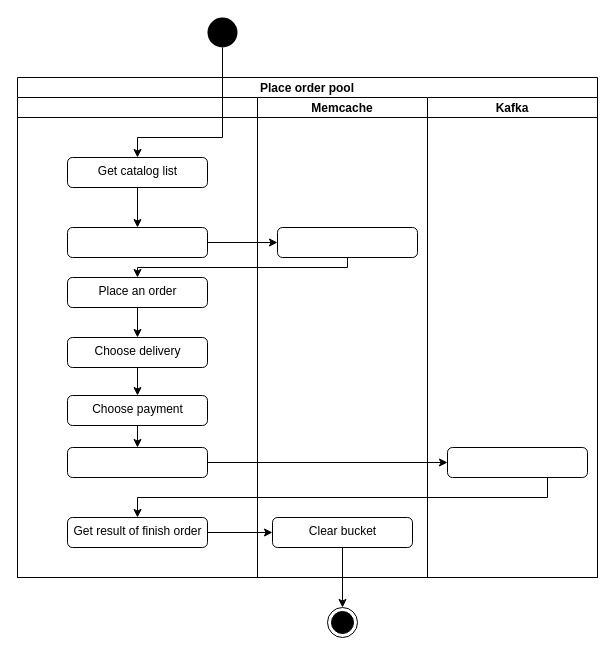
Image size: 615x655. Some labels were removed from this diagram. The shapes that lost their labels are listed below. From the top down, each one's box as (x1, y1, x2, y2) in pixels, then its label:
(66, 226, 208, 258): Add items in bucket
(276, 226, 418, 258): Save bucket in memcache
(16, 96, 258, 578): UI
(66, 446, 208, 478): Finish place order
(446, 446, 588, 478): Send order in topic
